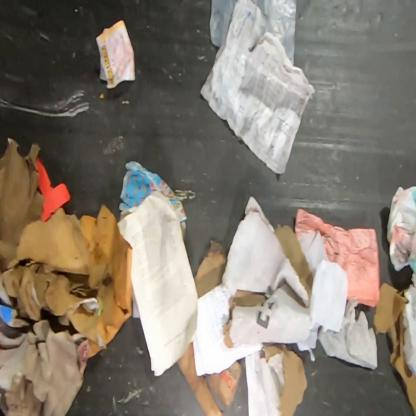cardboard: (0, 136, 133, 416), (220, 224, 314, 351), (372, 281, 416, 416), (175, 341, 244, 415), (258, 344, 307, 416), (192, 238, 228, 300)
soft_plastic: (208, 0, 298, 66)
